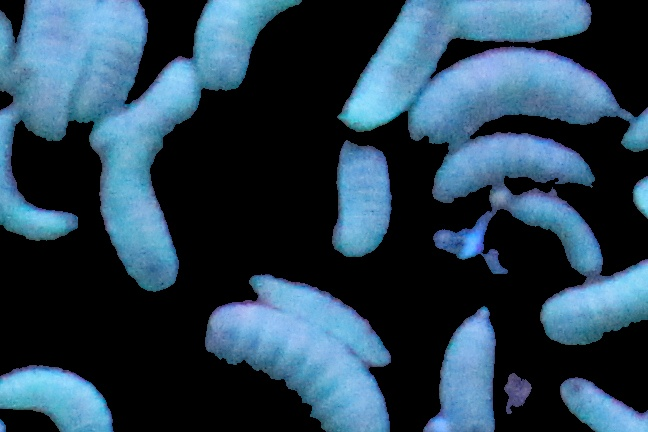larvae: (203, 303, 390, 432), (407, 47, 617, 142), (327, 1, 448, 121), (250, 275, 391, 368), (97, 137, 179, 292), (1, 109, 78, 242), (12, 1, 83, 144), (192, 1, 302, 92), (433, 140, 594, 200), (92, 62, 199, 151), (427, 304, 499, 432), (539, 262, 648, 345), (74, 1, 147, 120), (501, 192, 601, 274), (1, 364, 116, 431), (329, 137, 391, 258), (443, 1, 593, 41), (559, 377, 645, 432)
